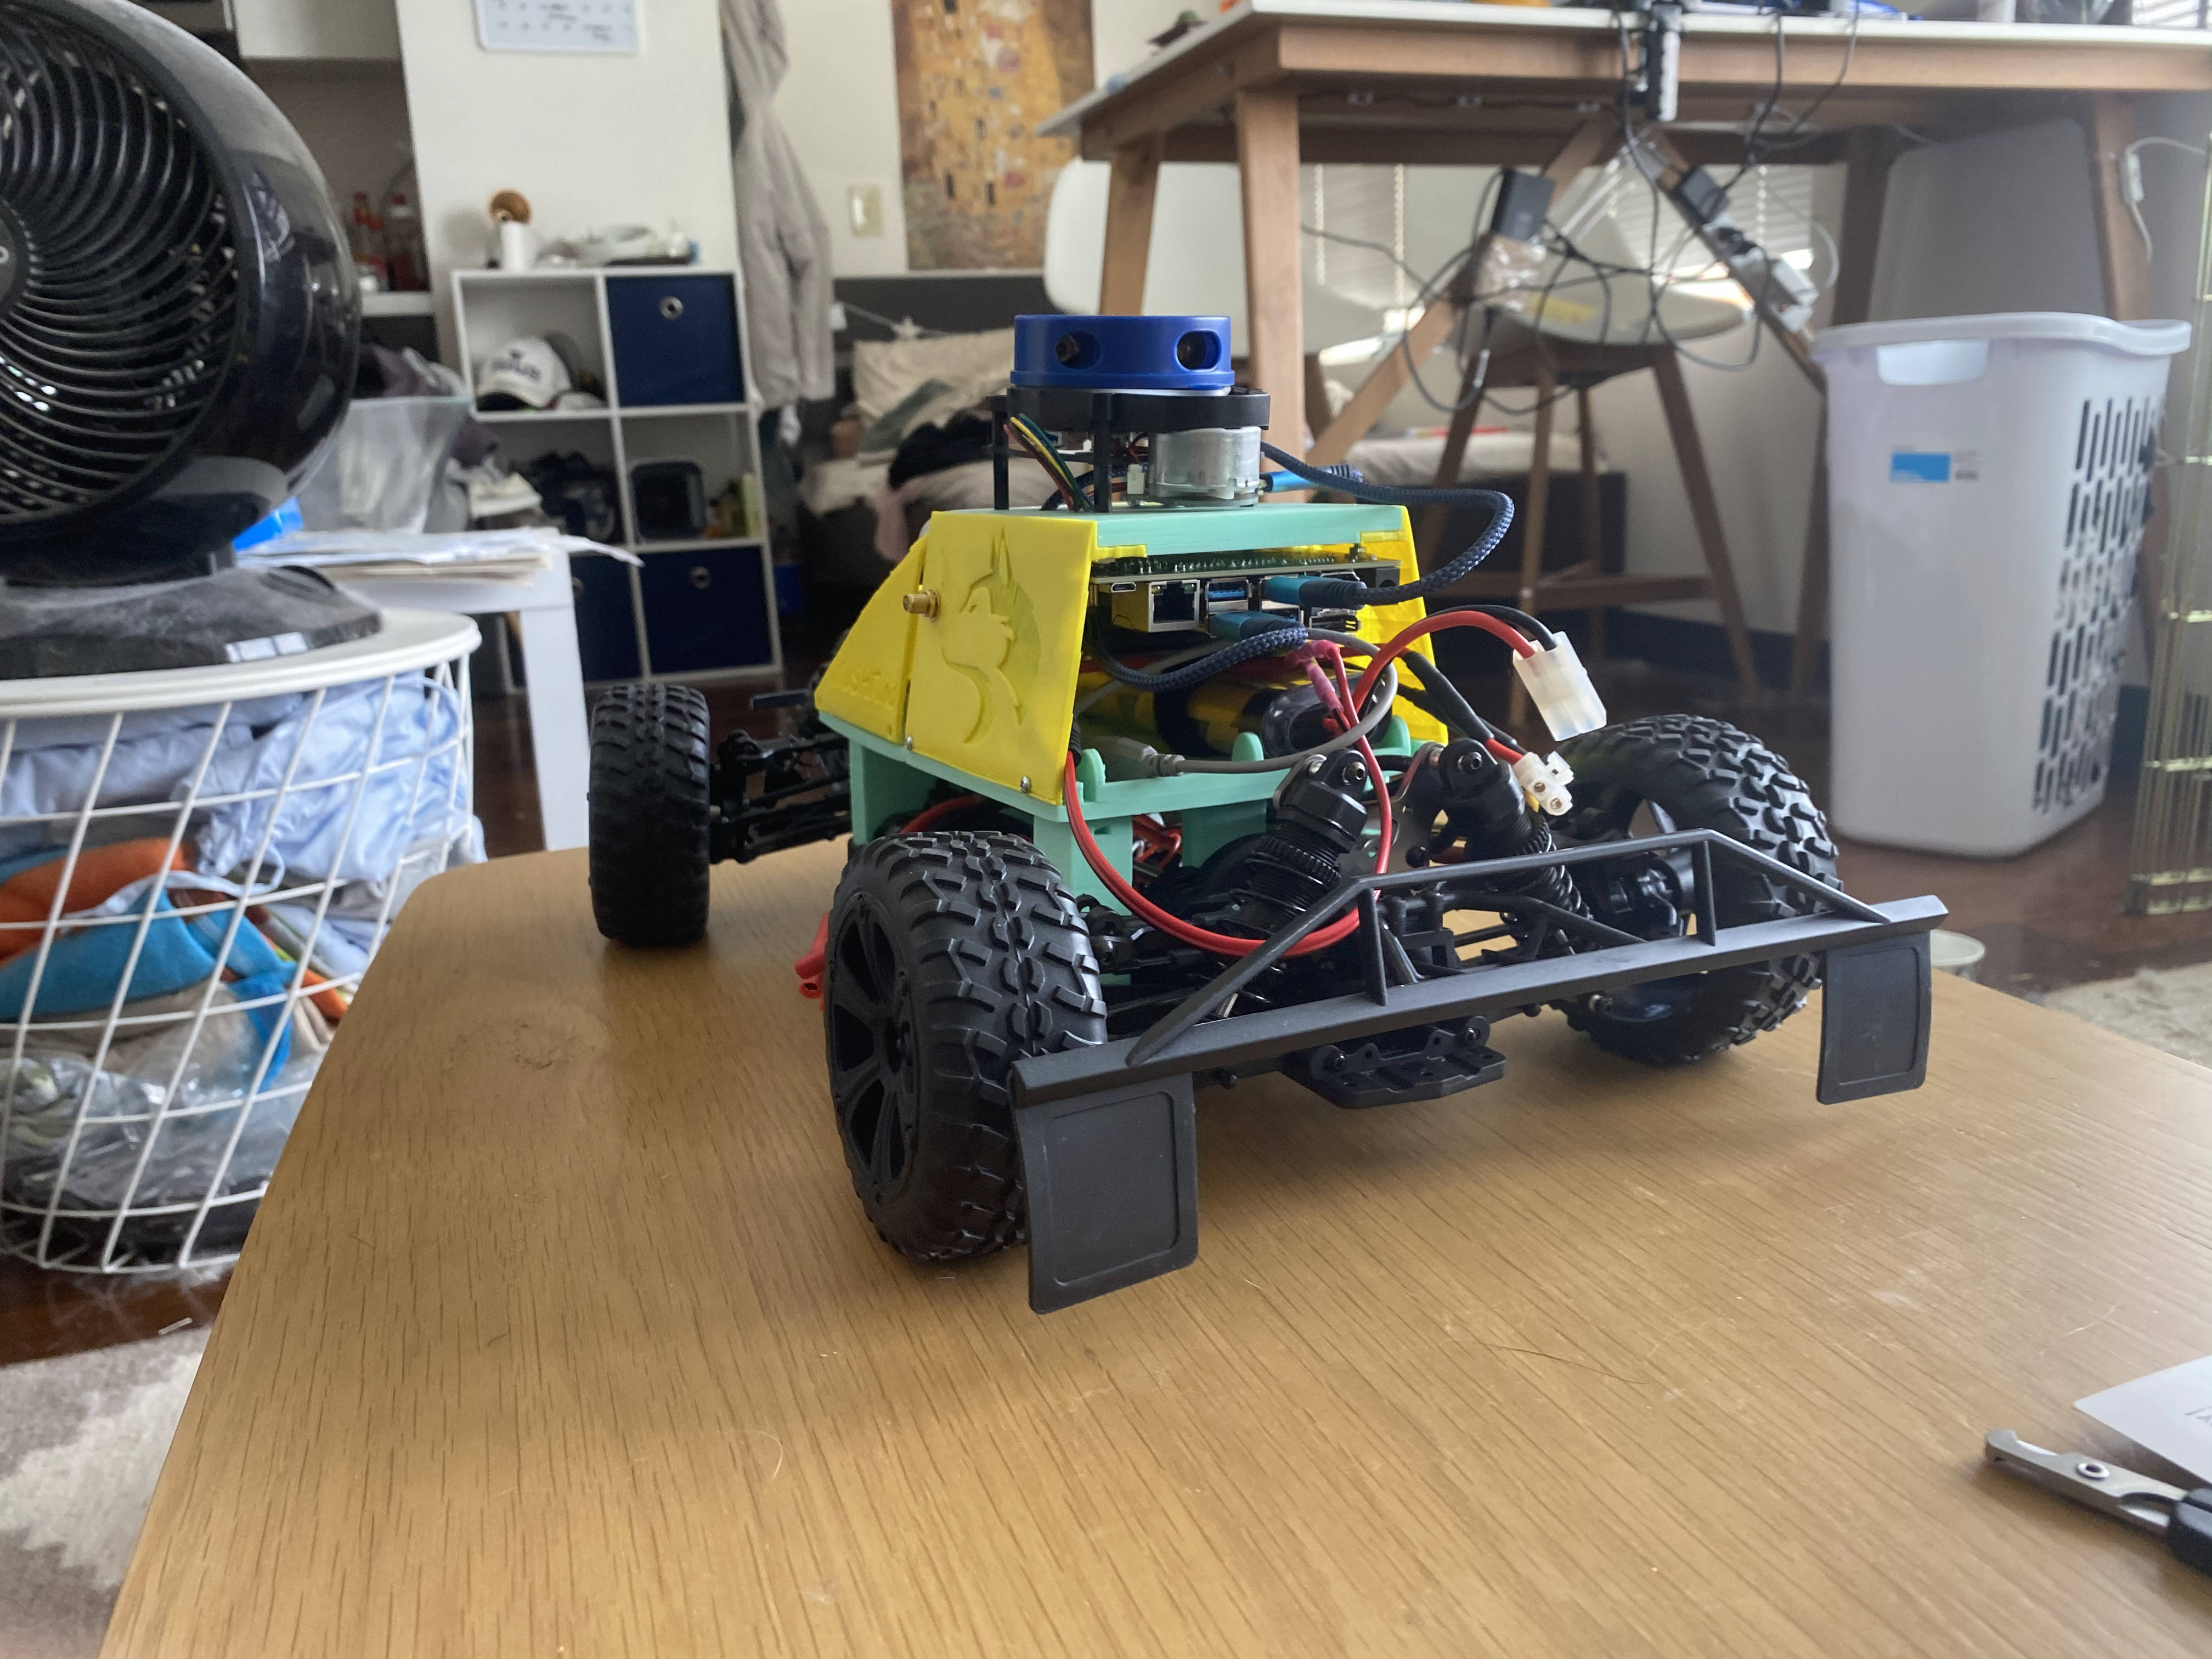mushr_car: (580, 307, 1952, 1331)
